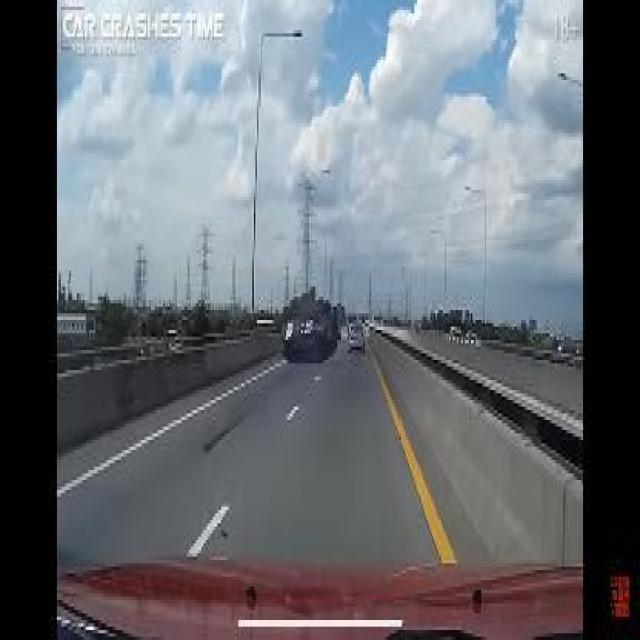accident: (278, 292, 340, 362)
